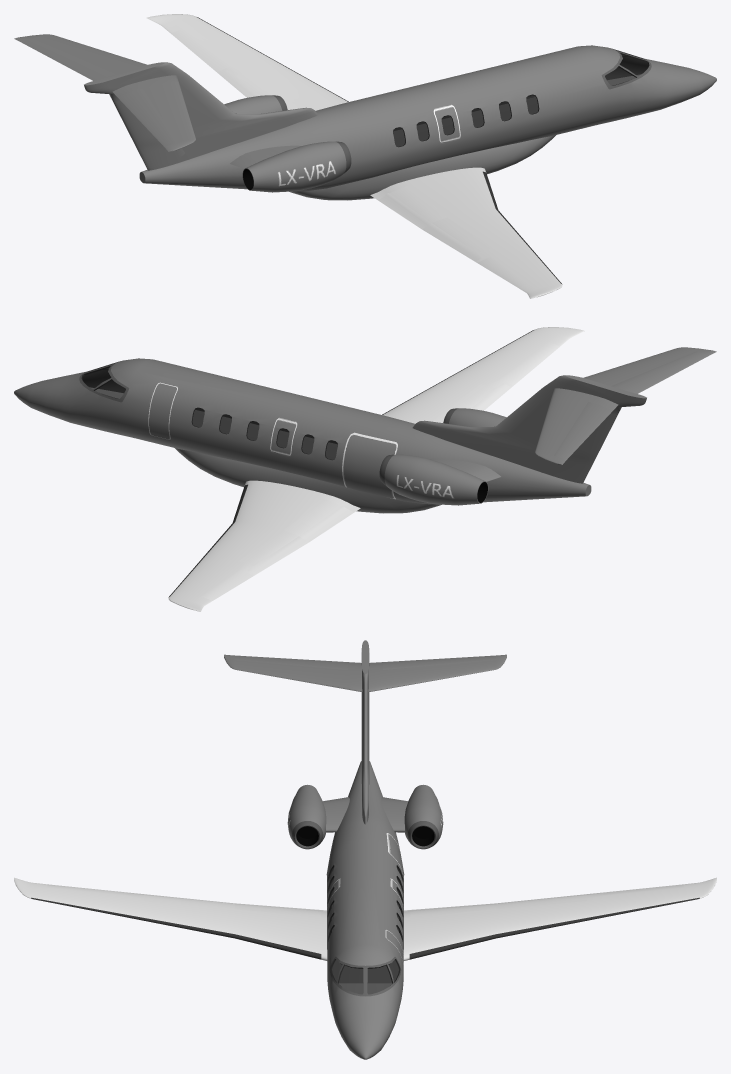
The model's file is learJet.glb.
3 views of the same model, one above another, from view 1: azimuth 30°, elevation 25°; view 2: azimuth 150°, elevation 25°; view 3: azimuth 270°, elevation 25° (orthographic). The views are drawn at different scales.
Parts seen in each view (by area): view 1: Body, Right Wing, Cylinder, Engines, Left Wing, Cube.004, H Stab, Cylinder.002, Passenger Windows, H Stab.002, H Stab.003, Cube (+7 smaller); view 2: Body, Left Wing, Cylinder, Engines, Right Wing, Cube.004, H Stab, Cargo Door, Cylinder.002, Passenger Windows, H Stab.003, H Stab.002 (+9 smaller); view 3: Body, Left Wing, Right Wing, H Stab, Engines, Cockpit Windows, Cylinder, H Stab.001, Body.002, Window Frame, H Stab.002, H Stab.003.
Part boxes in pixels (box(x1,y1,x2,y2)): Body: box(139, 45, 716, 191); Right Wing: box(370, 167, 562, 298); Cylinder: box(84, 62, 318, 170); Engines: box(224, 95, 351, 192); Left Wing: box(146, 14, 348, 110); Cube.004: box(289, 135, 555, 200); H Stab: box(14, 34, 195, 152); Cylinder.002: box(113, 101, 184, 168); Passenger Windows: box(393, 94, 539, 147); H Stab.002: box(118, 89, 176, 146); H Stab.003: box(22, 38, 119, 80); Cube: box(393, 74, 640, 146); Body: box(14, 358, 591, 504); Left Wing: box(168, 480, 360, 611); Cylinder: box(412, 375, 646, 483); Engines: box(379, 408, 506, 505); Right Wing: box(382, 327, 584, 423); Cube.004: box(175, 448, 441, 513); H Stab: box(535, 347, 716, 465); Cargo Door: box(342, 432, 397, 499); Cylinder.002: box(546, 414, 617, 481); Passenger Windows: box(191, 407, 337, 460); H Stab.003: box(554, 402, 612, 459); H Stab.002: box(611, 351, 708, 393); Body: box(326, 761, 403, 1059); Left Wing: box(403, 877, 716, 960); Right Wing: box(14, 877, 327, 960); H Stab: box(224, 654, 506, 691); Engines: box(287, 784, 443, 849); Cockpit Windows: box(330, 959, 400, 994); Cylinder: box(361, 640, 369, 824); H Stab.001: box(322, 797, 408, 832); Body.002: box(331, 868, 399, 982); Window Frame: box(329, 957, 401, 996); H Stab.002: box(235, 655, 347, 669); H Stab.003: box(383, 655, 495, 669).
Size of the model in its own units: 18.54 by 5.06 by 19.48.
Materials: 20 (2 with a texture image).
